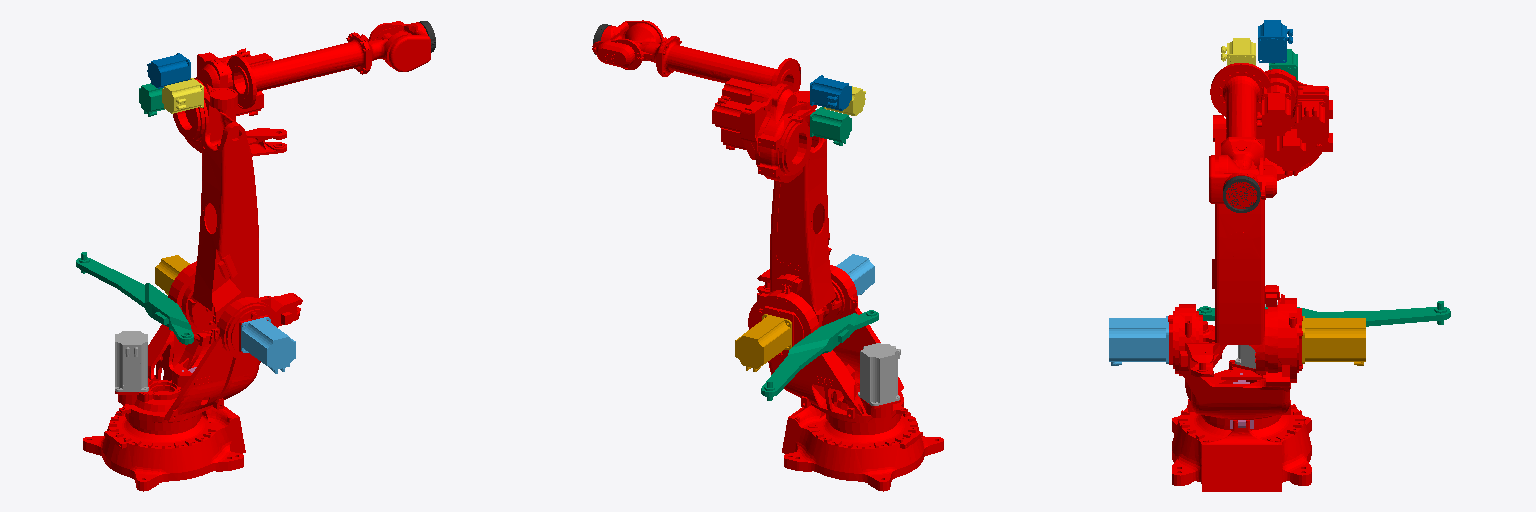
The robot description file, URDF, robot "nj_220_2_7":
<?xml version="1.0" ?>
<!-- =================================================================================== -->
<!-- |    This document was autogenerated by xacro from nj_220_2_7_pybullet.xacro      | -->
<!-- |    EDITING THIS FILE BY HAND IS NOT RECOMMENDED                                 | -->
<!-- =================================================================================== -->
<robot name="nj_220_2_7">
  <!-- <xacro:macro name="nj_220_2_7" params="prefix:='' interface:=hardware_interface/PositionJointInterface type:=urdf"> -->
  <!--  195°/s -->
  <link name="base_link">
    <inertial>
      <origin rpy="0 0 0" xyz="0.035817 -0.00001 0.13320"/>
      <mass value="780.97"/>
      <inertia ixx="39.64573032" ixy="0.00269524" ixz="-3.73357627" iyy="48.50586929" iyz="-0.00127807" izz="49.079656"/>
    </inertial>
    <visual>
      <origin rpy="0 0 0" xyz="0 0 0"/>
      <geometry>
        <mesh filename="package://nj_220_2_7_gazebo/meshes/base_link.STL"/>
      </geometry>
      <material name="">
        <color rgba="1 0 0 1"/>
      </material>
    </visual>
    <collision>
      <origin rpy="0 0 0" xyz="0 0 0"/>
      <geometry>
        <mesh filename="package://nj_220_2_7_gazebo/meshes/base_link.STL"/>
      </geometry>
    </collision>
  </link>
  <link name="link_1">
    <inertial>
      <origin rpy="0 0 0" xyz="0.31397 0.02536 0.37802"/>
      <mass value="120.57"/>
      <inertia ixx="96.14944607" ixy="2.82831578" ixz="59.92048931" iyy="132.52767347" iyz="3.87136939" izz="76.40305744"/>
    </inertial>
    <visual>
      <origin rpy="0 0 0" xyz="0 0 0"/>
      <geometry>
        <mesh filename="package://nj_220_2_7_gazebo/meshes/link_1.STL"/>
      </geometry>
      <material name="">
        <color rgba="1 0 0 1"/>
      </material>
    </visual>
    <collision>
      <origin rpy="0 0 0" xyz="0 0 0"/>
      <geometry>
        <mesh filename="package://nj_220_2_7_gazebo/meshes/link_1.STL"/>
      </geometry>
    </collision>
  </link>
  <joint name="joint_1" type="revolute">
    <origin rpy="0 0 0" xyz="0 0 0.331"/>
    <parent link="base_link"/>
    <child link="link_1"/>
    <axis xyz="0 0 1"/>
    <limit effort="100000" lower="-1.570796327" upper="1.570796327" velocity="1.74533"/>
  </joint>
  <link name="link_2">
    <inertial>
      <origin rpy="0 0 0" xyz="0.018416 -0.00326 0.51384"/>
      <mass value="120.34"/>
      <inertia ixx="53.73638778" ixy="-0.00887173" ixz="1.24711967" iyy="53.48705119" iyz="-0.66793611" izz="2.25971599"/>
    </inertial>
    <visual>
      <origin rpy="0 0 0" xyz="0 0 0"/>
      <geometry>
        <mesh filename="package://nj_220_2_7_gazebo/meshes/link_2.STL"/>
      </geometry>
      <material name="">
        <color rgba="1 0 0 1"/>
      </material>
    </visual>
    <collision>
      <origin rpy="0 0 0" xyz="0 0 0"/>
      <geometry>
        <mesh filename="package://nj_220_2_7_gazebo/meshes/link_2.STL"/>
      </geometry>
    </collision>
  </link>
  <joint name="joint_2" type="revolute">
    <origin rpy="0 0 0" xyz="0.4 0 0.499"/>
    <parent link="link_1"/>
    <child link="link_2"/>
    <axis xyz="0 1 0"/>
    <limit effort="100000" lower="-1.308996939" upper="1.658062789" velocity="1.5708"/>
  </joint>
  <link name="link_3_virtual">
    <inertial>
      <origin rpy="0 0 0" xyz="0 0 0"/>
      <mass value="0.01"/>
      <inertia ixx="0.00001" ixy="0.00000" ixz="0.00000" iyy="0.00001" iyz="0.00000" izz="0.00000"/>
    </inertial>
  </link>
  <joint name="joint_2m" type="revolute">
    <origin rpy="0 0 0" xyz="0 0 1.175"/>
    <parent link="link_2"/>
    <child link="link_3_virtual"/>
    <axis xyz="0 1 0"/>
    <mimic joint="joint_2" multiplier="-1" offset="0"/>
    <limit effort="100000" lower="-6.2831853" upper="6.2831853" velocity="3.40339"/>
  </joint>
  <link name="link_3">
    <inertial>
      <origin rpy="0 0 0" xyz="-0.04239 0.01939 0.2104"/>
      <mass value="303.81"/>
      <inertia ixx="24.45402173" ixy="-0.58037596" ixz="-2.46563321" iyy="20.71802091" iyz="2.40454026" izz="9.01610712"/>
    </inertial>
    <visual>
      <origin rpy="0 0 0" xyz="0 0 0"/>
      <geometry>
        <mesh filename="package://nj_220_2_7_gazebo/meshes/link_3.STL"/>
      </geometry>
      <material name="">
        <color rgba="1 0 0 1"/>
      </material>
    </visual>
    <collision>
      <origin rpy="0 0 0" xyz="0 0 0"/>
      <geometry>
        <mesh filename="package://nj_220_2_7_gazebo/meshes/link_3.STL"/>
      </geometry>
    </collision>
  </link>
  <joint name="joint_3m" type="revolute">
    <origin rpy="0 0 0" xyz="0 0 0"/>
    <parent link="link_3_virtual"/>
    <child link="link_3"/>
    <axis xyz="0 1 0"/>
    <limit effort="0" lower="-6.2831853" upper="6.2831853" velocity="0"/>
    <mimic joint="joint_3" multiplier="-1" offset="0"/>
  </joint>
  <link name="link_4">
    <inertial>
      <origin rpy="0 0 0" xyz="0.71228 -0.02567 -0.00003"/>
      <mass value="90.963"/>
      <inertia ixx="0.68929228290" ixy="-2.39235486446" ixz="-0.00192589885" iyy="58.11987131958" iyz="-0.00017654018" izz="58.29818388998"/>
    </inertial>
    <visual>
      <origin rpy="0 0 0" xyz="0 0 0"/>
      <geometry>
        <mesh filename="package://nj_220_2_7_gazebo/meshes/link_4.STL"/>
      </geometry>
      <material name="">
        <color rgba="1 0 0 1"/>
      </material>
    </visual>
    <collision>
      <origin rpy="0 0 0" xyz="0 0 0"/>
      <geometry>
        <mesh filename="package://nj_220_2_7_gazebo/meshes/link_4.STL"/>
      </geometry>
    </collision>
  </link>
  <joint name="joint_4" type="revolute">
    <origin rpy="0 0 0" xyz="0.105 0 0.25"/>
    <parent link="link_3"/>
    <child link="link_4"/>
    <axis xyz="1 0 0"/>
    <limit effort="1230" lower="-6.2831853" upper="6.2831853" velocity="2.26893"/>
  </joint>
  <link name="link_5">
    <inertial>
      <origin rpy="0 0 0" xyz="0.09375 0.01506 0.00002"/>
      <mass value="50.615"/>
      <inertia ixx="0.67974396" ixy="0.04508972" ixz="0.00009980" iyy="0.83229961" iyz="0.00011851" izz="1.32231171"/>
    </inertial>
    <visual>
      <origin rpy="0 0 0" xyz="0 0 0"/>
      <geometry>
        <mesh filename="package://nj_220_2_7_gazebo/meshes/link_5.STL"/>
      </geometry>
      <material name="">
        <color rgba="1 0 0 1"/>
      </material>
    </visual>
    <collision>
      <origin rpy="0 0 0" xyz="0 0 0"/>
      <geometry>
        <mesh filename="package://nj_220_2_7_gazebo/meshes/link_5.STL"/>
      </geometry>
    </collision>
  </link>
  <joint name="joint_5" type="revolute">
    <origin rpy="0 0 0" xyz="1.02033 0 0"/>
    <parent link="link_4"/>
    <child link="link_5"/>
    <axis xyz="0 1 0"/>
    <limit effort="1230" lower="-2.1816" upper="2.1816" velocity="2.26893"/>
  </joint>
  <link name="link_6">
    <inertial>
      <origin rpy="0 0 0" xyz="0.0058594 -0.00060952 -5.99E-05"/>
      <mass value="5.3437"/>
      <inertia ixx="0.02913604" ixy="-0.00000822" ixz="-0.00000086" iyy="0.01533002" iyz="0.00000585" izz="0.01518874"/>
    </inertial>
    <visual>
      <origin rpy="0 0 0" xyz="0 0 0"/>
      <geometry>
        <mesh filename="package://nj_220_2_7_gazebo/meshes/link_6.STL"/>
      </geometry>
      <material name="">
        <color rgba="0.25098 0.25098 0.25098 1"/>
      </material>
    </visual>
    <collision>
      <origin rpy="0 0 0" xyz="0 0 0"/>
      <geometry>
        <mesh filename="package://nj_220_2_7_gazebo/meshes/link_6.STL"/>
      </geometry>
    </collision>
  </link>
  <joint name="joint_6" type="revolute">
    <origin rpy="0 0 0" xyz="0.2085 0 0"/>
    <parent link="link_5"/>
    <child link="link_6"/>
    <axis xyz="1 0 0"/>
    <limit effort="712" lower="-6.2831853" upper="6.2831853" velocity="3.40339"/>
  </joint>
  <link name="link_2_1">
    <inertial>
      <origin rpy="0 0 0" xyz="-0.14831 0.02392 -0.01938"/>
      <mass value="41.905"/>
      <inertia ixx="0.20904736" ixy="-0.17095810" ixz="0.20186889" iyy="1.77577938" iyz="-0.02155338" izz="1.68515339"/>
    </inertial>
    <visual>
      <origin rpy="0 0 0" xyz="0 0 0"/>
      <geometry>
        <mesh filename="package://nj_220_2_7_gazebo/meshes/link_2_1.STL"/>
      </geometry>
      <material name="">
        <color rgba="1 0 0 1"/>
      </material>
    </visual>
    <collision>
      <origin rpy="0 0 0" xyz="0 0 0"/>
      <geometry>
        <mesh filename="package://nj_220_2_7_gazebo/meshes/link_2_1.STL"/>
      </geometry>
    </collision>
  </link>
  <joint name="joint_3" type="revolute">
    <origin rpy="0 0 0" xyz="0.400 -0.1945 0.499"/>
    <parent link="link_1"/>
    <child link="link_2_1"/>
    <axis xyz="0 -1 0"/>
    <limit effort="100000" lower="-4.468042885" upper="0.174532925" velocity="1.91986"/>
  </joint>
  <link name="link_2_2_virtual">
    <inertial>
      <origin rpy="0 0 0" xyz="0 0 0"/>
      <mass value="0.01"/>
      <inertia ixx="0.00001" ixy="0.00000" ixz="0.00000" iyy="0.00001" iyz="0.00000" izz="0.00000"/>
    </inertial>
  </link>
  <joint name="joint_2_1" type="continuous">
    <origin rpy="0 0 0" xyz="-0.34867 0.015 -0.0305"/>
    <parent link="link_2_1"/>
    <child link="link_2_2_virtual"/>
    <axis xyz="0 1 0"/>
    <mimic joint="joint_3" multiplier="1" offset="0"/>
  </joint>
  <link name="link_2_2">
    <inertial>
      <origin rpy="0 0 0" xyz="-0.06443 0.01485 0.51885"/>
      <mass value="60.72"/>
      <inertia ixx="21.93937071" ixy="-0.05733724" ixz="-1.89190480" iyy="22.27041146" iyz="0.47064670" izz="0.41028863"/>
    </inertial>
    <visual>
      <origin rpy="0 0 0" xyz="0 0 0"/>
      <geometry>
        <mesh filename="package://nj_220_2_7_gazebo/meshes/link_2_2.STL"/>
      </geometry>
    </visual>
    <collision>
      <origin rpy="0 0 0" xyz="0 0 0"/>
      <geometry>
        <mesh filename="package://nj_220_2_7_gazebo/meshes/link_2_2.STL"/>
      </geometry>
    </collision>
  </link>
  <joint name="joint_2_2" type="continuous">
    <origin rpy="0 0 0" xyz="0.0 0.0 0.0"/>
    <parent link="link_2_2_virtual"/>
    <child link="link_2_2"/>
    <axis xyz="0 1 0"/>
    <mimic joint="joint_2" multiplier="1" offset="0"/>
  </joint>
  <link name="link_2_3">
    </link>
  <joint name="joint_2_3" type="continuous">
    <origin rpy="0 0 0" xyz="0 0 1.175"/>
    <parent link="link_2_2"/>
    <child link="link_2_3"/>
    <axis xyz="0 1 0"/>
  </joint>
  <link name="link_2_4">
    </link>
  <joint name="joint_2_4" type="continuous">
    <origin rpy="0 0 0" xyz="-0.34867 -0.1795 -0.0305"/>
    <parent link="link_3"/>
    <child link="link_2_4"/>
    <axis xyz="0 1 0"/>
  </joint>
  <link name="flange">
    <inertial>
      <origin rpy="0 0 0" xyz="0 0 0"/>
      <mass value="0.01"/>
      <inertia ixx="0.00001" ixy="0.00000" ixz="0.00000" iyy="0.00001" iyz="0.00000" izz="0.00000"/>
    </inertial>
  </link>
  <joint name="link_6_to_flange" type="fixed">
    <origin rpy="0 0 0" xyz="0 0 -0.0395"/>
    <parent link="link_6"/>
    <child link="flange"/>
    <axis xyz="0 0 0"/>
  </joint>
  <!-- Stroke Ends -->
  <link name="external_piece">
    <inertial>
      <origin rpy="0 0 0" xyz="0.25149 0 0.08305"/>
      <mass value="11.17"/>
      <inertia ixx="0.12505051" ixy="0" ixz="0.20615167" iyy="0.86139689" iyz="0" izz="0.75193919"/>
    </inertial>
    <visual>
      <origin rpy="0 0 0" xyz="0 0 0"/>
      <geometry>
        <mesh filename="package://nj_220_2_7_gazebo/meshes/external_part.STL"/>
      </geometry>
    </visual>
    <collision>
      <origin rpy="0 0 0" xyz="0 0 0"/>
      <geometry>
        <mesh filename="package://nj_220_2_7_gazebo/meshes/external_part.STL"/>
      </geometry>
    </collision>
  </link>
  <joint name="joint_external_piece" type="fixed">
    <origin rpy="0 0 0" xyz="0 0 0"/>
    <parent link="link_1"/>
    <child link="external_piece"/>
    <axis xyz="0 0 0"/>
  </joint>
  <link name="motor_1">
    <inertial>
      <origin rpy="0 0 0" xyz="0 0.00059 -0.13134"/>
      <mass value="74.18"/>
      <inertia ixx="2.03862179" ixy="0.00000294" ixz="0.00001194" iyy="2.03393681" iyz="-0.01109897" izz="0.37378121"/>
    </inertial>
    <visual>
      <origin rpy="0 0 0" xyz="0 0 0"/>
      <geometry>
        <mesh filename="package://nj_220_2_7_gazebo/meshes/motor_80.STL"/>
      </geometry>
    </visual>
    <collision>
      <origin rpy="0 0 0" xyz="0 0 0"/>
      <geometry>
        <mesh filename="package://nj_220_2_7_gazebo/meshes/motor_80.STL"/>
      </geometry>
    </collision>
  </link>
  <joint name="joint_motor_1" type="fixed">
    <origin rpy="0 0 4.194026193" xyz="-0.1567 0.0905 0.12075"/>
    <parent link="link_1"/>
    <child link="motor_1"/>
    <axis xyz="0 0 0"/>
  </joint>
  <link name="motor_2">
    <inertial>
      <origin rpy="0 0 0" xyz="0 0.00055 -0.14385"/>
      <mass value="80.26"/>
      <inertia ixx="2.5764983" ixy="0.00000380" ixz="0.01312758" iyy="2.49873445" iyz="-0.0000105" izz="0.40399789"/>
    </inertial>
    <visual>
      <origin rpy="0 0 0" xyz="0 0 0"/>
      <geometry>
        <mesh filename="package://nj_220_2_7_gazebo/meshes/motor_90.STL"/>
      </geometry>
    </visual>
    <collision>
      <origin rpy="0 0 0" xyz="0 0 0"/>
      <geometry>
        <mesh filename="package://nj_220_2_7_gazebo/meshes/motor_90.STL"/>
      </geometry>
    </collision>
  </link>
  <joint name="joint_motor_2" type="fixed">
    <origin rpy="-1.570796327 1.570796327 0" xyz="0.400 0.2955 0.499"/>
    <parent link="link_1"/>
    <child link="motor_2"/>
    <axis xyz="0 0 0"/>
  </joint>
  <link name="motor_3">
    <inertial>
      <origin rpy="0 0 0" xyz="0 0.00059 -0.13134"/>
      <mass value="74.18"/>
      <inertia ixx="2.03862179" ixy="0.00000294" ixz="0.00001194" iyy="2.03393681" iyz="-0.01109897" izz="0.37378121"/>
    </inertial>
    <visual>
      <origin rpy="0 0 0" xyz="0 0 0"/>
      <geometry>
        <mesh filename="package://nj_220_2_7_gazebo/meshes/motor_80.STL"/>
      </geometry>
    </visual>
    <collision>
      <origin rpy="0 0 0" xyz="0 0 0"/>
      <geometry>
        <mesh filename="package://nj_220_2_7_gazebo/meshes/motor_80.STL"/>
      </geometry>
    </collision>
  </link>
  <joint name="joint_motor_3" type="fixed">
    <origin rpy="1.570796327 1.570796327 0" xyz="0.400 -0.358 0.499"/>
    <parent link="link_1"/>
    <child link="motor_3"/>
    <axis xyz="0 0 0"/>
  </joint>
  <link name="motor_4">
    <inertial>
      <origin rpy="0 0 0" xyz="0.00125 0 -0.0852"/>
      <mass value="28"/>
      <inertia ixx="0.33783188" ixy="-0.00000254" ixz="-0.00532880" iyy="0.34073438" iyz="0.00000366" izz="0.08086422"/>
    </inertial>
    <visual>
      <origin rpy="0 0 0" xyz="0 0 0"/>
      <geometry>
        <mesh filename="package://nj_220_2_7_gazebo/meshes/motor_50.STL"/>
      </geometry>
    </visual>
    <collision>
      <origin rpy="0 0 0" xyz="0 0 0"/>
      <geometry>
        <mesh filename="package://nj_220_2_7_gazebo/meshes/motor_50.STL"/>
      </geometry>
    </collision>
  </link>
  <joint name="joint_motor_4" type="fixed">
    <origin rpy="3.141592654 1.570796327 0" xyz="-0.200 0.21052 0.175"/>
    <parent link="link_3"/>
    <child link="motor_4"/>
    <axis xyz="0 -1 0"/>
  </joint>
  <link name="motor_5">
    <inertial>
      <origin rpy="0 0 0" xyz="0.00125 0 -0.0852"/>
      <mass value="28"/>
      <inertia ixx="0.33783188" ixy="-0.00000254" ixz="-0.00532880" iyy="0.34073438" iyz="0.00000366" izz="0.08086422"/>
    </inertial>
    <visual>
      <origin rpy="0 0 0" xyz="0 0 0"/>
      <geometry>
        <mesh filename="package://nj_220_2_7_gazebo/meshes/motor_50.STL"/>
      </geometry>
    </visual>
    <collision>
      <origin rpy="0 0 0" xyz="0 0 0"/>
      <geometry>
        <mesh filename="package://nj_220_2_7_gazebo/meshes/motor_50.STL"/>
      </geometry>
    </collision>
  </link>
  <joint name="joint_motor_5" type="fixed">
    <origin rpy="1.570796327 0 -1.570796327" xyz="-0.1675 0 0.250"/>
    <parent link="link_3"/>
    <child link="motor_5"/>
    <axis xyz="0 -1 0"/>
  </joint>
  <link name="motor_6">
    <inertial>
      <origin rpy="0 0 0" xyz="0.00125 0 -0.0852"/>
      <mass value="28"/>
      <inertia ixx="0.33783188" ixy="-0.00000254" ixz="-0.00532880" iyy="0.34073438" iyz="0.00000366" izz="0.08086422"/>
    </inertial>
    <visual>
      <origin rpy="0 0 0" xyz="0 0 0"/>
      <geometry>
        <mesh filename="package://nj_220_2_7_gazebo/meshes/motor_50.STL"/>
      </geometry>
    </visual>
    <collision>
      <origin rpy="0 0 0" xyz="0 0 0"/>
      <geometry>
        <mesh filename="package://nj_220_2_7_gazebo/meshes/motor_50.STL"/>
      </geometry>
    </collision>
  </link>
  <joint name="joint_motor_6" type="fixed">
    <origin rpy="-1.570796327 0 1.570796327" xyz="-0.1675 0.155 0.34577"/>
    <parent link="link_3"/>
    <child link="motor_6"/>
    <axis xyz="0 -1 0"/>
  </joint>
  <!-- End Stroke End -->
  <transmission name="tran_1">
    <type>transmission_interface/SimpleTransmission</type>
    <joint name="joint_1">
      <hardwareInterface>hardware_interface/EffortJointInterface</hardwareInterface>
    </joint>
    <actuator name="motor_1">
      <mechanicalReduction>1</mechanicalReduction>
    </actuator>
  </transmission>
  <transmission name="tran_2">
    <type>transmission_interface/SimpleTransmission</type>
    <joint name="joint_2">
      <hardwareInterface>hardware_interface/EffortJointInterface</hardwareInterface>
    </joint>
    <actuator name="motor_2">
      <mechanicalReduction>1</mechanicalReduction>
    </actuator>
  </transmission>
  <transmission name="tran_3">
    <type>transmission_interface/SimpleTransmission</type>
    <joint name="joint_3">
      <hardwareInterface>hardware_interface/EffortJointInterface</hardwareInterface>
    </joint>
    <actuator name="motor_3">
      <mechanicalReduction>1</mechanicalReduction>
    </actuator>
  </transmission>
  <transmission name="tran_4">
    <type>transmission_interface/SimpleTransmission</type>
    <joint name="joint_4">
      <hardwareInterface>hardware_interface/EffortJointInterface</hardwareInterface>
    </joint>
    <actuator name="motor_4">
      <mechanicalReduction>1</mechanicalReduction>
    </actuator>
  </transmission>
  <transmission name="tran_5">
    <type>transmission_interface/SimpleTransmission</type>
    <joint name="joint_5">
      <hardwareInterface>hardware_interface/EffortJointInterface</hardwareInterface>
    </joint>
    <actuator name="motor_5">
      <mechanicalReduction>1</mechanicalReduction>
    </actuator>
  </transmission>
  <transmission name="tran_6">
    <type>transmission_interface/SimpleTransmission</type>
    <joint name="joint_6">
      <hardwareInterface>hardware_interface/EffortJointInterface</hardwareInterface>
    </joint>
    <actuator name="motor_6">
      <mechanicalReduction>1</mechanicalReduction>
    </actuator>
  </transmission>
</robot>

--- Render facts (derived) ---
The picture shows the robot from 3 angles, left to right: view 1: azimuth 30°, elevation 25°; view 2: azimuth 150°, elevation 25°; view 3: azimuth 270°, elevation 25°; orthographic projection.
Robot: nj_220_2_7 — 21 links, 20 joints (8 revolute, 4 continuous, 8 fixed); root link base_link; default pose: every joint at zero.
Visible links, largest first — view 1: link_1, link_2, base_link, link_4, link_3, link_2_2, motor_3, motor_1, link_5, motor_5, motor_6, link_2_1 (+2 smaller); view 2: link_1, base_link, link_2, link_3, link_4, link_2_2, motor_1, motor_2, link_5, motor_4, motor_6, motor_3; view 3: base_link, link_1, link_2, link_3, link_4, motor_2, motor_3, link_2_2, link_5, link_2_1, motor_6, motor_5 (+1 smaller).
Link boxes in pixels (bbox=[...]): link_1: bbox=[115, 261, 277, 422]; link_2: bbox=[188, 112, 258, 333]; base_link: bbox=[83, 391, 245, 491]; link_4: bbox=[227, 32, 411, 108]; link_3: bbox=[173, 48, 286, 156]; link_2_2: bbox=[76, 252, 193, 344]; motor_3: bbox=[241, 317, 295, 373]; motor_1: bbox=[115, 331, 148, 391]; link_5: bbox=[369, 21, 430, 71]; motor_5: bbox=[162, 78, 203, 113]; motor_6: bbox=[147, 53, 190, 88]; link_2_1: bbox=[217, 293, 302, 326]; link_1: bbox=[748, 265, 907, 422]; base_link: bbox=[782, 405, 943, 491]; link_2: bbox=[770, 110, 835, 326]; link_3: bbox=[712, 78, 816, 182]; link_4: bbox=[625, 23, 800, 91]; link_2_2: bbox=[761, 310, 878, 400]; motor_1: bbox=[858, 343, 900, 405]; motor_2: bbox=[735, 314, 791, 371]; link_5: bbox=[592, 20, 663, 69]; motor_4: bbox=[810, 107, 851, 145]; motor_6: bbox=[810, 75, 851, 110]; motor_3: bbox=[836, 254, 874, 295]; base_link: bbox=[1172, 404, 1311, 491]; link_1: bbox=[1168, 294, 1302, 419]; link_2: bbox=[1212, 115, 1279, 373]; link_3: bbox=[1257, 69, 1332, 180]; link_4: bbox=[1210, 63, 1271, 175]; motor_2: bbox=[1302, 316, 1365, 365]; motor_3: bbox=[1109, 316, 1168, 365]; link_2_2: bbox=[1197, 301, 1450, 326]; link_5: bbox=[1209, 155, 1276, 208]; link_2_1: bbox=[1179, 321, 1226, 376]; motor_6: bbox=[1258, 20, 1292, 62]; motor_5: bbox=[1221, 38, 1255, 65].
Bounding box of the posed robot: 2.1 × 1.71 × 2.42 m (x, y, z).
16 mesh visuals loaded from 13 distinct referenced files (13 binary STL).